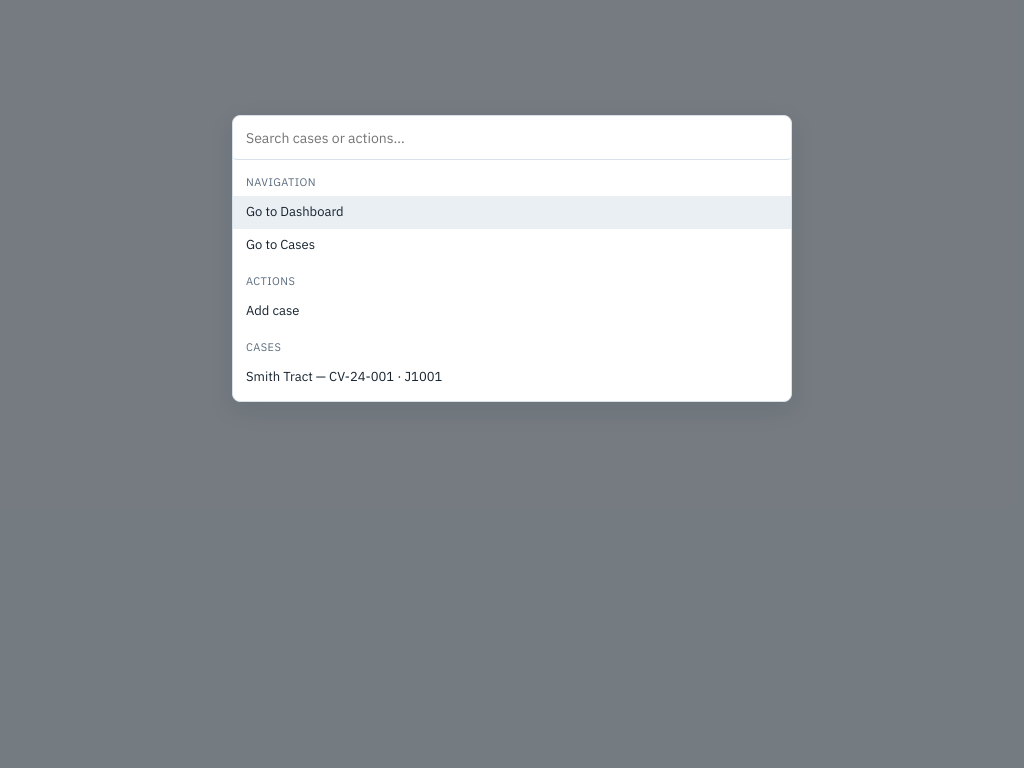
Scenario: CommandPalette › shows a no-results state when nothing matches
Type "zzz-no-match" into the dropdown at x=512, y=138, box [233,116,791,160]
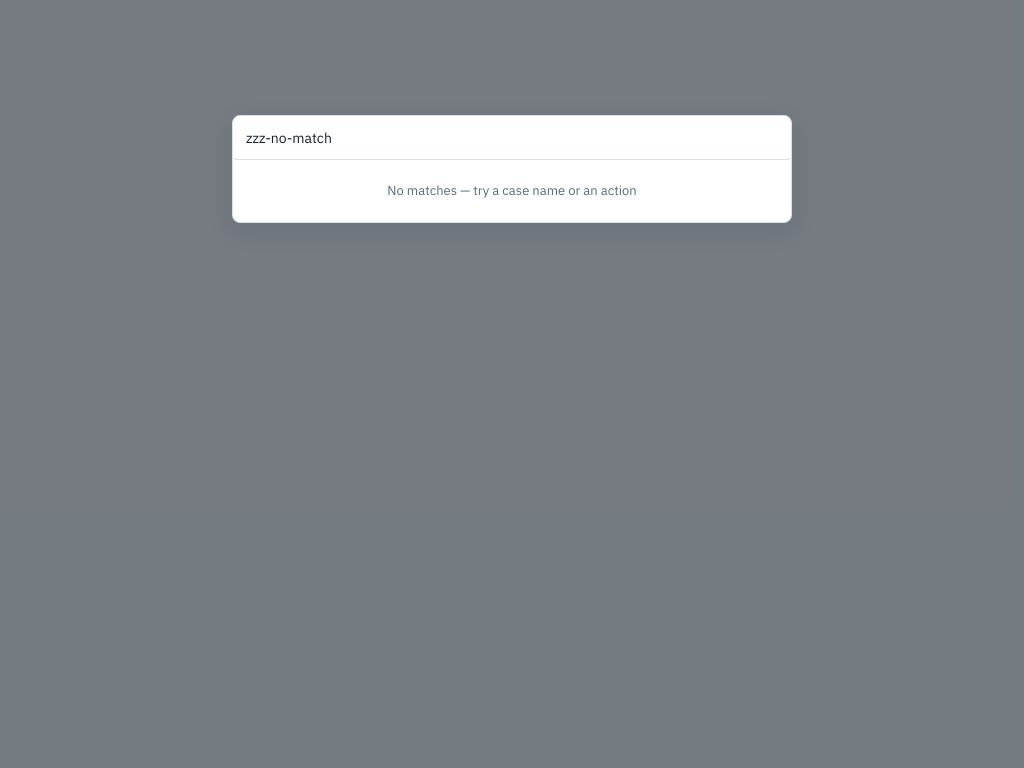
Check: the text "No matches — try a case name or an action" is shown, box [387,182,637,199]
